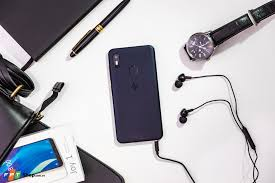vsmart: (104, 42, 168, 148)
